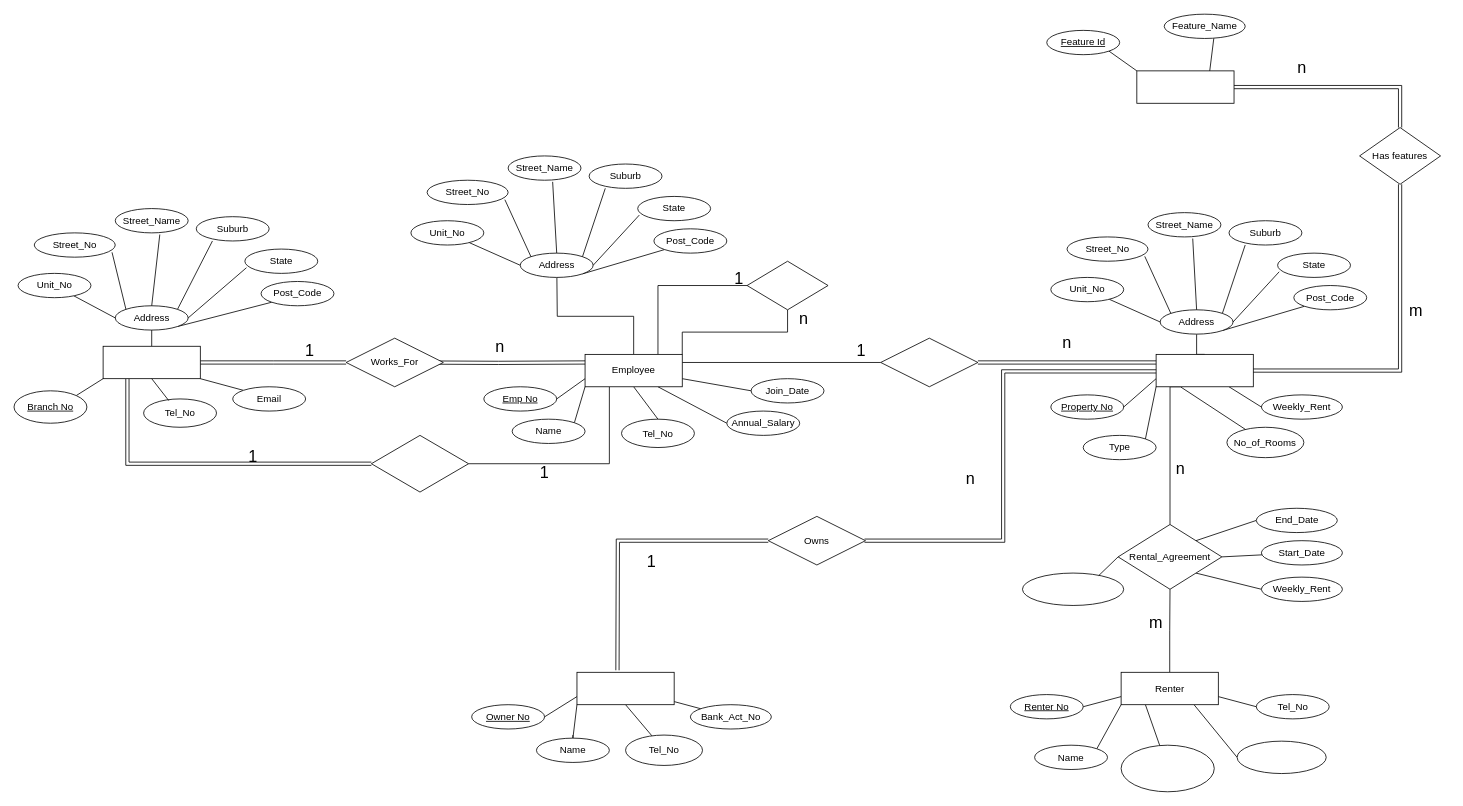
Image size: 1463x806. Some labels were removed from this diagram. The centre of each missing label's shape, as x and y in pixels:
"Branch" belongs at (151,362).
"Features" belongs at (1185,86).
"Manages" belongs at (420,463).
"Max_Weekly_Rent" belongs at (1281,757).
"Oversees" belongs at (929,362).
"Owner" belongs at (625,688).
"Pref_Accomo_Type" belongs at (1167,768).
"Property" belongs at (1204,370).
"Rental_Agreement_Id" belongs at (1073,588).
"Supervises" belongs at (787,285).
